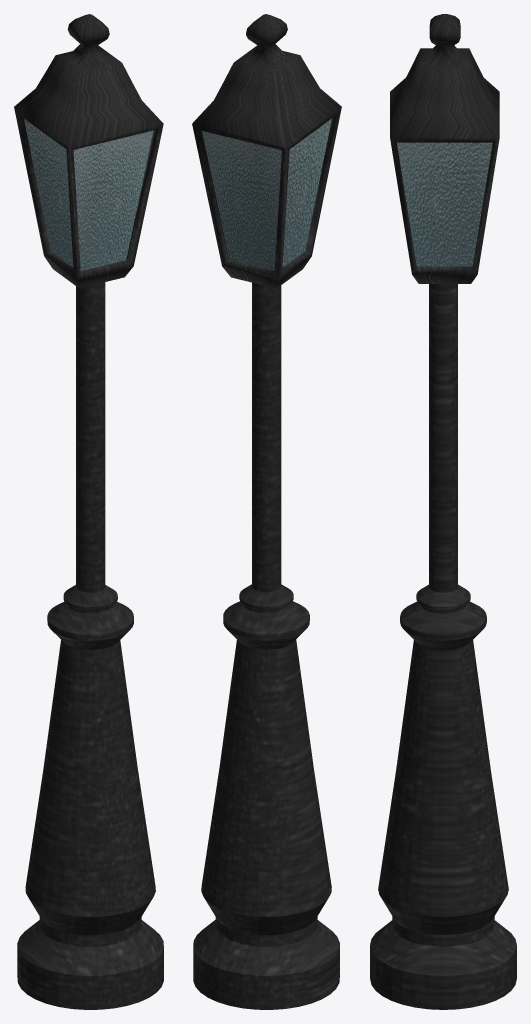
Rendered from Lampara.obj.
3 renders of one model, left to right at view 1: azimuth 30°, elevation 25°; view 2: azimuth 150°, elevation 25°; view 3: azimuth 270°, elevation 25°, orthographic.
Parts seen in each view (by area): view 1: Cylinder_Cylinder_002, Cube_Cube_008, Vidrio1, Vidrio2; view 2: Cylinder_Cylinder_002, Cube_Cube_008, Vidrio1, Vidrio2; view 3: Cylinder_Cylinder_002, Cube_Cube_008, Vidrio2.
Part boxes in pixels (x1,y1,x2,y2): Cylinder_Cylinder_002: (17,282,163,1009); Cube_Cube_008: (14,14,163,288); Vidrio1: (73,130,153,271); Vidrio2: (24,119,73,267); Cylinder_Cylinder_002: (193,282,339,1009); Cube_Cube_008: (192,14,341,288); Vidrio1: (202,131,281,270); Vidrio2: (202,118,331,267); Cylinder_Cylinder_002: (370,284,516,1009); Cube_Cube_008: (390,14,499,283); Vidrio2: (397,142,492,266).
Bounding box in the file's own units: 2 × 14.48 × 2.
